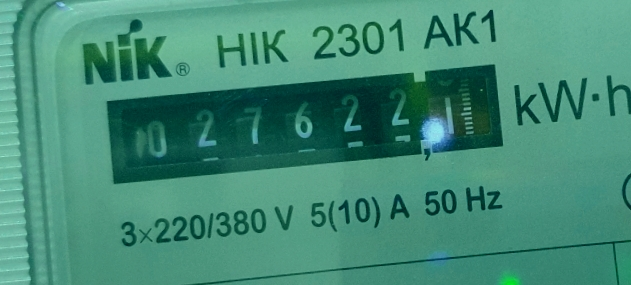0: (143, 115, 171, 159)
1: (439, 91, 459, 136)
2: (337, 90, 365, 133), (193, 105, 219, 149), (386, 83, 412, 127)
6: (290, 97, 315, 140)
7: (241, 102, 268, 147)
screen: (93, 52, 517, 191)
